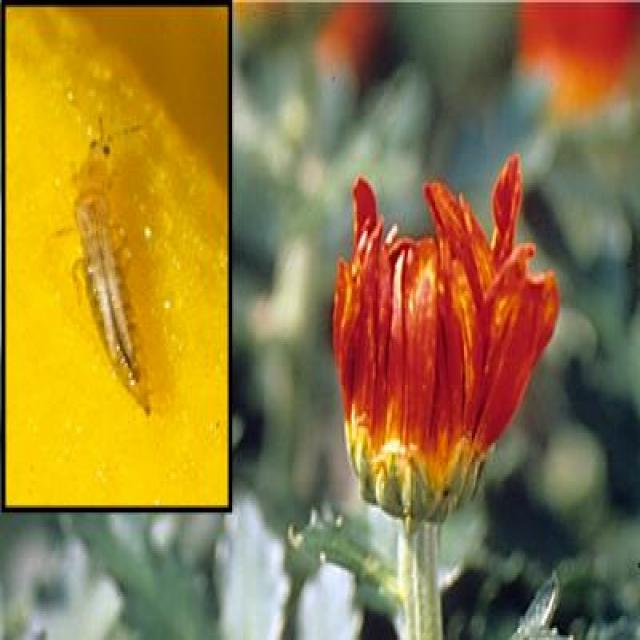Thrip-Larva-: (54, 106, 174, 415)
